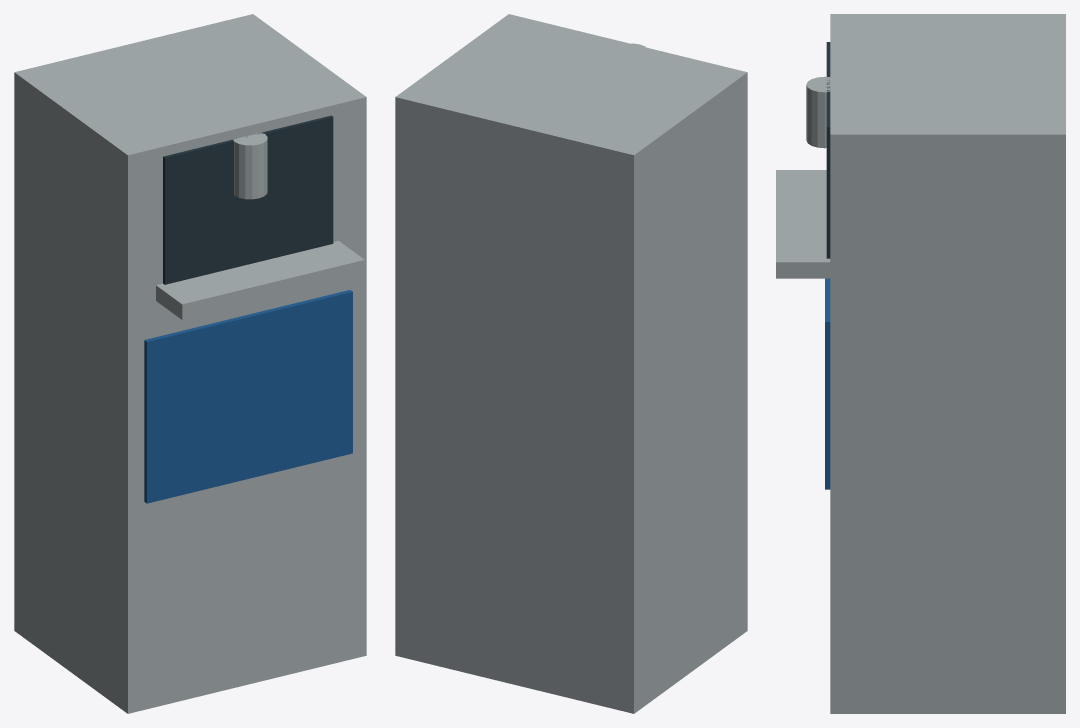
File: scendance-plan-water-refill-station.glb
The picture shows the model from 3 angles, left to right: view 1: azimuth 30°, elevation 25°; view 2: azimuth 150°, elevation 25°; view 3: azimuth 270°, elevation 25°; orthographic projection. The views are drawn at different scales.
Size of the model in its own units: 0.51 by 1.14 by 0.517.
